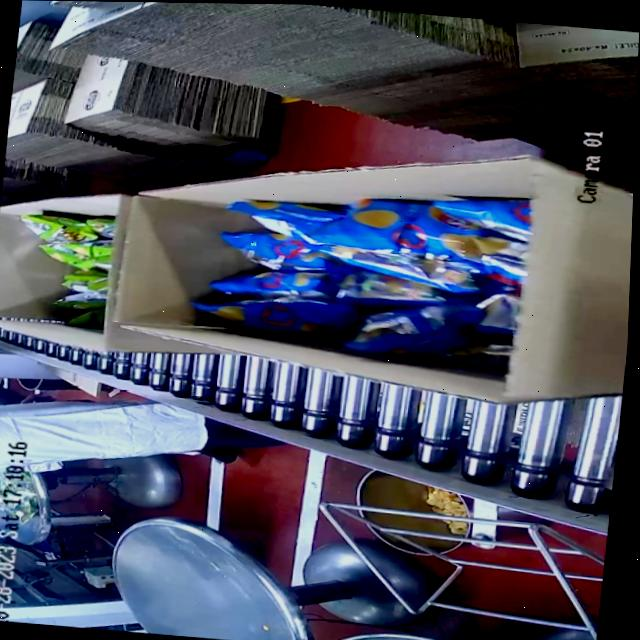PAPRIKA: (196, 177, 531, 362)
